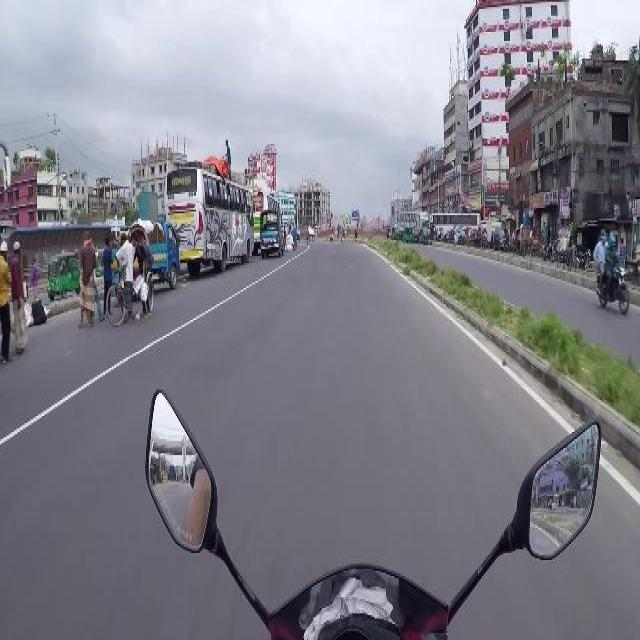bus: (164, 165, 254, 268), (429, 212, 479, 244), (252, 186, 278, 209), (396, 210, 428, 227)
car: (492, 227, 508, 250)
motorbike: (144, 383, 602, 637), (592, 229, 630, 315), (576, 245, 590, 268), (541, 240, 555, 258)
pickup: (111, 224, 180, 288)
policecar: (259, 207, 283, 255)
rickshaw: (104, 224, 156, 327), (512, 223, 526, 257), (528, 229, 540, 255), (432, 226, 443, 240), (480, 227, 488, 246), (468, 228, 478, 242), (445, 228, 455, 241)
three wheelers -CNG-: (47, 251, 81, 297), (418, 226, 430, 243), (402, 226, 416, 240), (391, 225, 399, 237)
